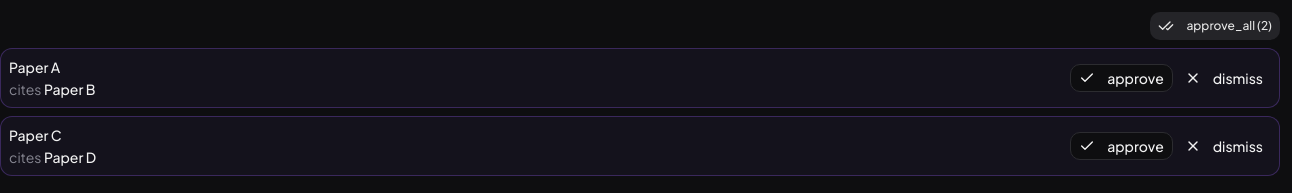
Test: RelationshipSuggestionsList › disables per-row approve/dismiss buttons while approve_all is running
Click the button "approve_all (2)" at (1215, 26), box [1150,12,1280,40]
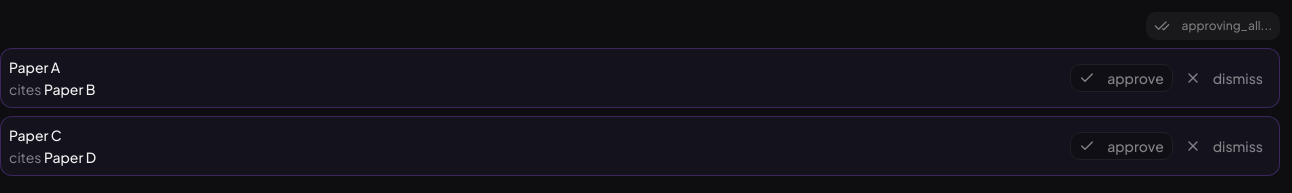
Expected: the button "dismiss" in the row of "Paper B" is disabled, [1177,64,1271,92]
Expected: the button "dismiss" in the row of "Paper D" is disabled, [1177,132,1271,160]
